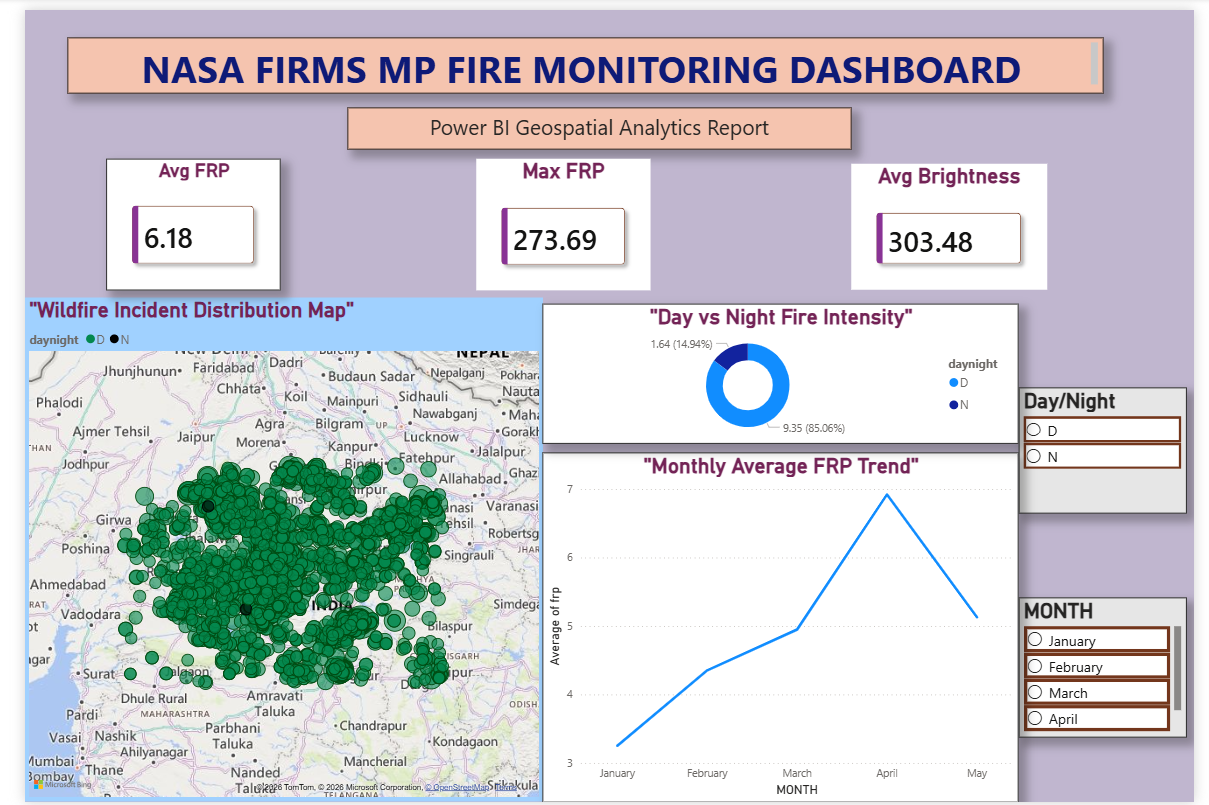

Layout of this report page (visuals, bound fields, positions):
{"tool":"powerbi","page":{"name":"Page 1","canvas":[1335,905],"ordinal":0},"visuals":[{"type":"map","title":"\"Wildfire Incident Distribution Map\"","fields":{"Y":["Working_Data.latitude"],"X":["Working_Data.longitude"],"Size":["Avg(Working_Data.frp)"],"Series":["Working_Data.daynight"]},"box":[0,329,592,576],"z":0},{"type":"shape","box":[32,16,1216,96],"z":1000},{"type":"textbox","box":[48,32,1184,64],"z":2000},{"type":"textbox","box":[368,112,576,48],"z":3000},{"type":"cardVisual","title":"Avg FRP","fields":{"Data":["Avg(Working_Data.frp)"]},"box":[92.9,170,199.3,150.4],"z":4000},{"type":"cardVisual","title":"Max FRP","fields":{"Data":["Max(Working_Data.frp)"]},"box":[515.4,170,199.3,150.4],"z":5000},{"type":"cardVisual","title":"Avg Brightness","fields":{"Data":["Avg(Working_Data.bright_t31)"]},"box":[944,176,224,144],"z":6000},{"type":"listSlicer","title":"Day/Night","fields":{"Values":["Working_Data.daynight"]},"box":[1136,432,192,144],"z":7000},{"type":"listSlicer","fields":{"Values":["Working_Data.MONTH"]},"box":[1136,672,192,160],"z":8000},{"type":"lineChart","title":"\"Monthly Average FRP Trend\"","fields":{"Category":["Working_Data.MONTH"],"Y":["Avg(Working_Data.frp)"]},"box":[592,505,544,400],"z":8001},{"type":"donutChart","title":"\"Day vs Night Fire Intensity\"","fields":{"Category":["Working_Data.daynight"],"Y":["Avg(Working_Data.frp)"]},"box":[592,336,544,160],"z":8002}]}

Visuals, with their boxes in screenshot pixels (x1, y1, x2, y2), scaled from the page's 1335x905 canvas onto the 1209x805 screenshot:
""Wildfire Incident Distribution Map"" map: (left=0, top=293, right=536, bottom=804)
shape: (left=29, top=14, right=1130, bottom=100)
textbox: (left=43, top=28, right=1116, bottom=85)
textbox: (left=333, top=100, right=855, bottom=142)
"Avg FRP" cardVisual: (left=84, top=151, right=265, bottom=285)
"Max FRP" cardVisual: (left=467, top=151, right=647, bottom=285)
"Avg Brightness" cardVisual: (left=855, top=157, right=1058, bottom=285)
"Day/Night" listSlicer: (left=1029, top=384, right=1203, bottom=512)
listSlicer - Working_Data.MONTH: (left=1029, top=598, right=1203, bottom=740)
""Monthly Average FRP Trend"" lineChart: (left=536, top=449, right=1029, bottom=804)
""Day vs Night Fire Intensity"" donutChart: (left=536, top=299, right=1029, bottom=441)
